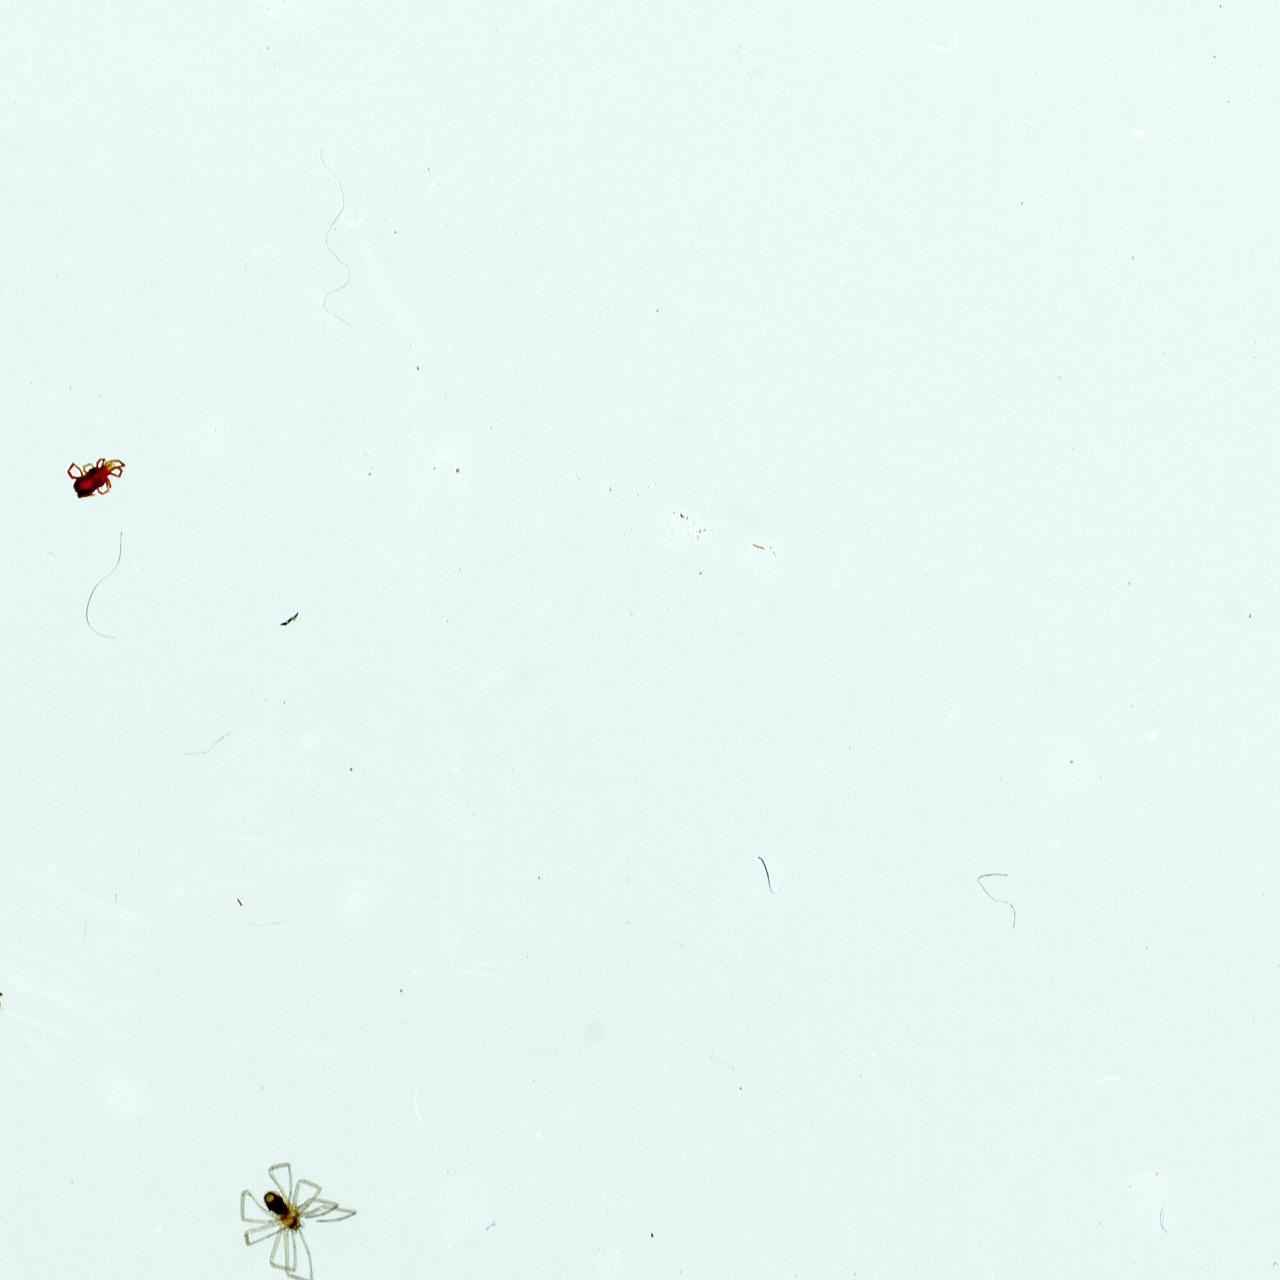arthropod: (238, 1159, 360, 1280), (62, 455, 131, 502), (0, 971, 8, 1027)
